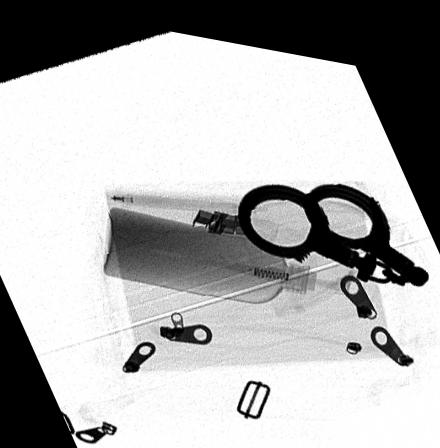HandCuffs: (238, 170, 429, 271)
